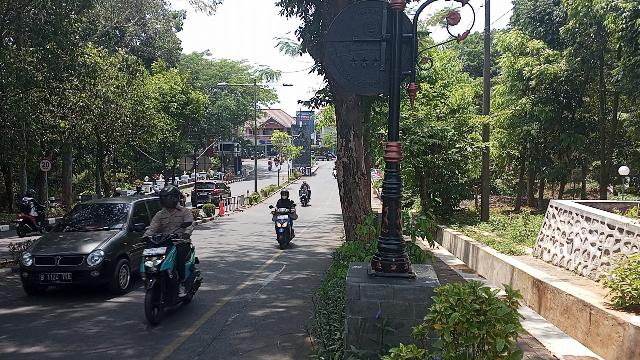helm: (159, 186, 181, 210), (27, 189, 38, 199), (282, 191, 291, 200)
motor: (134, 221, 206, 328), (270, 204, 298, 251), (15, 201, 49, 239)
